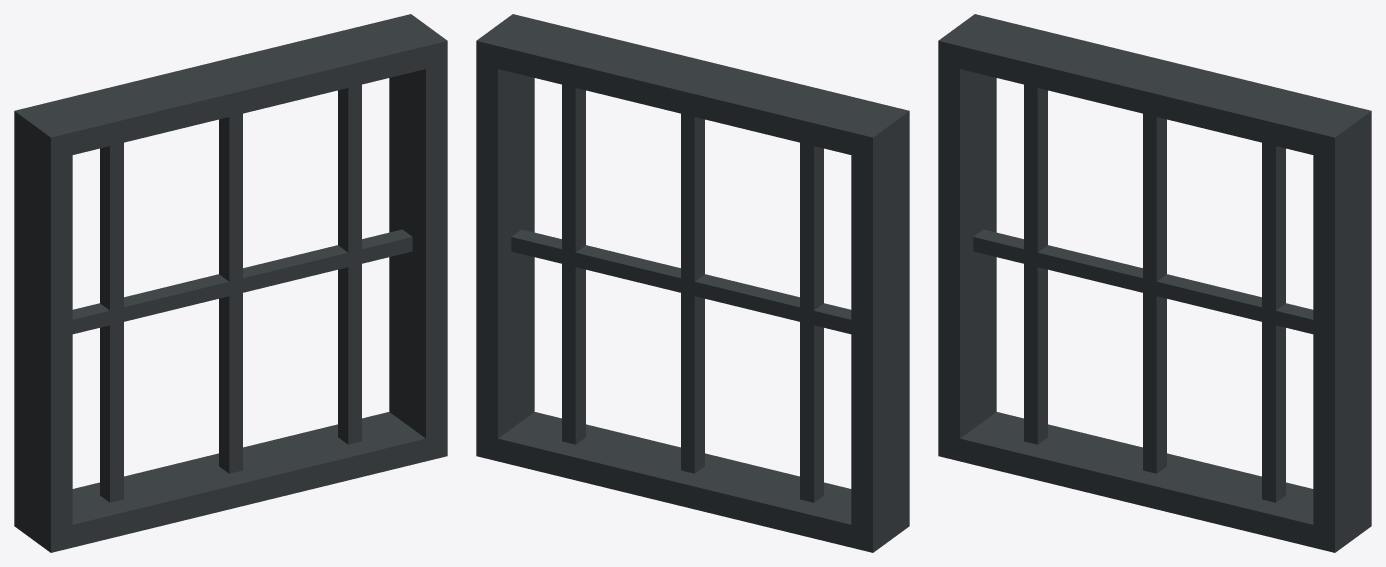
The model's file is 839_rectangular_iron_bar_insert.fbx.
The picture shows the model from 3 angles, left to right: view 1: azimuth 30°, elevation 25°; view 2: azimuth 150°, elevation 25°; view 3: azimuth 330°, elevation 25°; orthographic projection.
Parts seen in each view (by area): view 1: 839_rectangular_iron_bar_insert; view 2: 839_rectangular_iron_bar_insert; view 3: 839_rectangular_iron_bar_insert.
Boxes of the visible parts, <box> form: 839_rectangular_iron_bar_insert: <box>14,14,447,552</box>; 839_rectangular_iron_bar_insert: <box>476,14,909,552</box>; 839_rectangular_iron_bar_insert: <box>938,14,1371,552</box>.
Bounding box in the file's own units: 1 × 1 × 0.16.
Materials: 1 (1 with a texture image).
